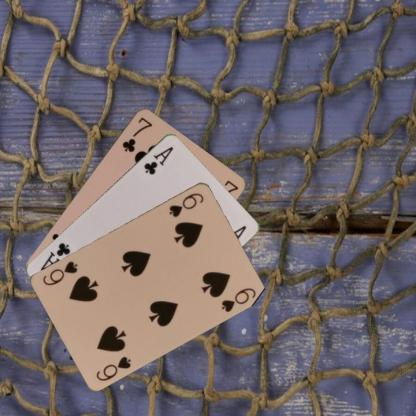6s: (94, 353, 132, 382), (167, 190, 205, 218)
7c: (119, 114, 154, 154)
Ac: (141, 144, 175, 176)
